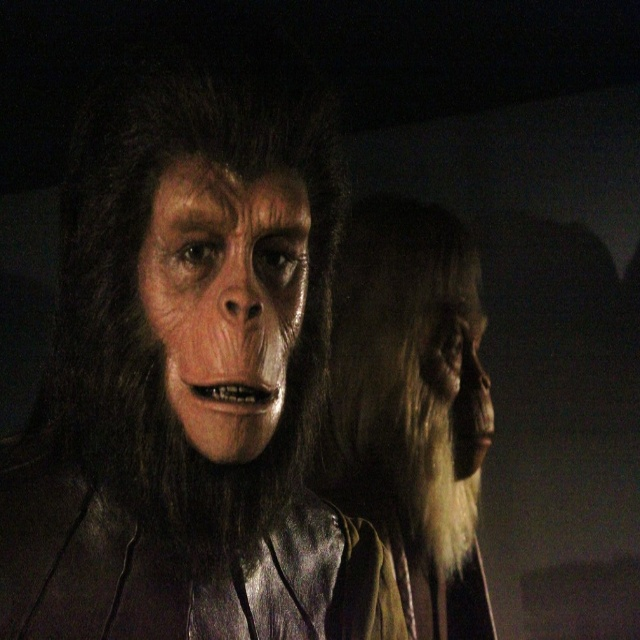Monkey: (56, 26, 346, 572)
